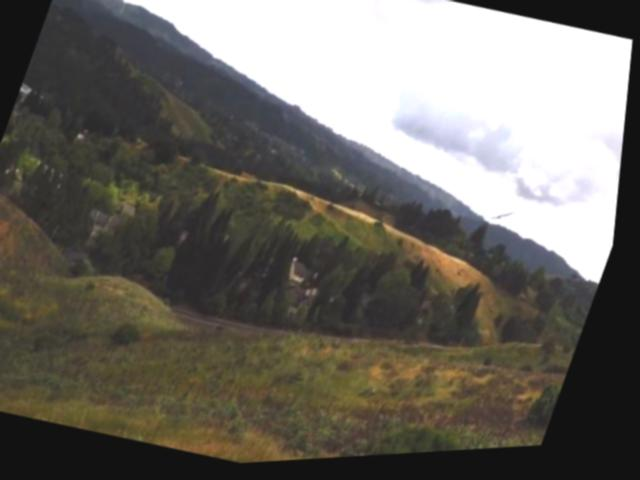iha: (491, 212, 521, 232)
